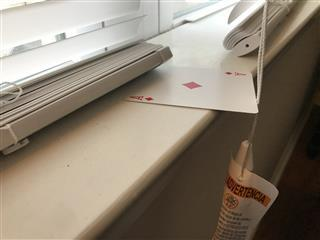AceOfDiamonds: (124, 66, 258, 113)
